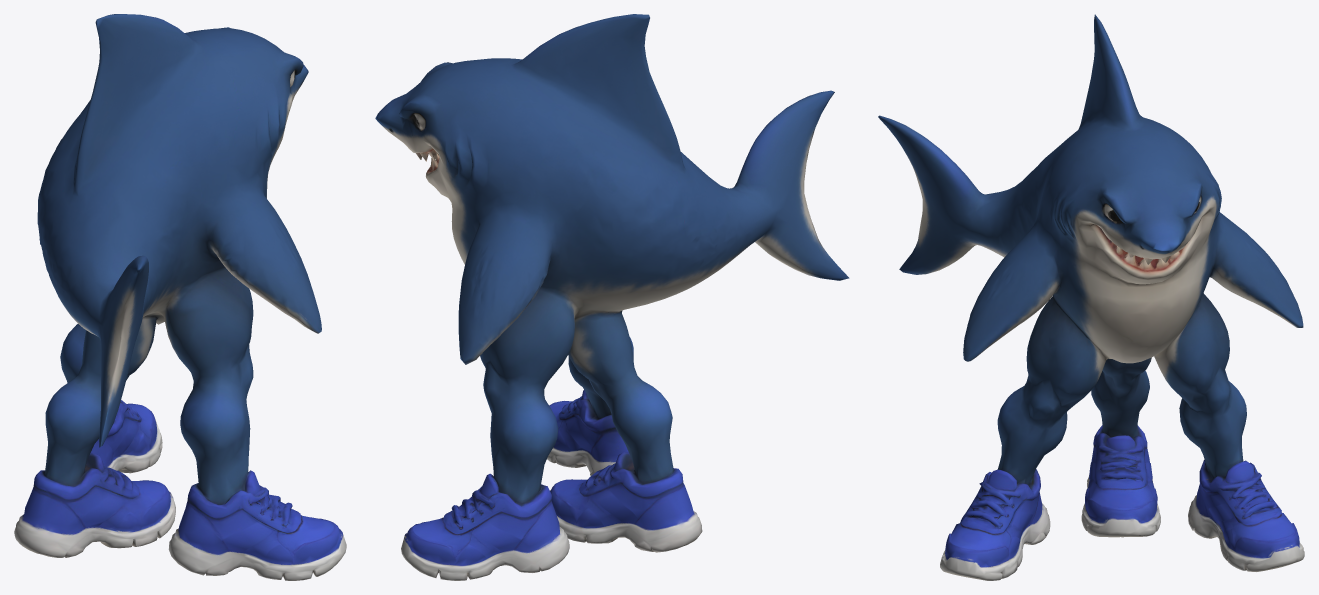
The model's file is shark.glb.
3 views of the same model, side by side, from view 1: azimuth 30°, elevation 25°; view 2: azimuth 150°, elevation 25°; view 3: azimuth 270°, elevation 25° (orthographic). The views are drawn at different scales.
Parts seen in each view (by area): view 1: tripo_node_81abdf0a-931a-4841-88bf-c7333cdeb8c0; view 2: tripo_node_81abdf0a-931a-4841-88bf-c7333cdeb8c0; view 3: tripo_node_81abdf0a-931a-4841-88bf-c7333cdeb8c0.
Part boxes in pixels (x1,y1,x2,y2): tripo_node_81abdf0a-931a-4841-88bf-c7333cdeb8c0: [14, 14, 346, 580]; tripo_node_81abdf0a-931a-4841-88bf-c7333cdeb8c0: [375, 14, 849, 580]; tripo_node_81abdf0a-931a-4841-88bf-c7333cdeb8c0: [878, 14, 1304, 580].
Bounding box in the file's own units: 0.6823 × 0.9995 × 0.7821.
Materials: 1 (1 with a texture image).
